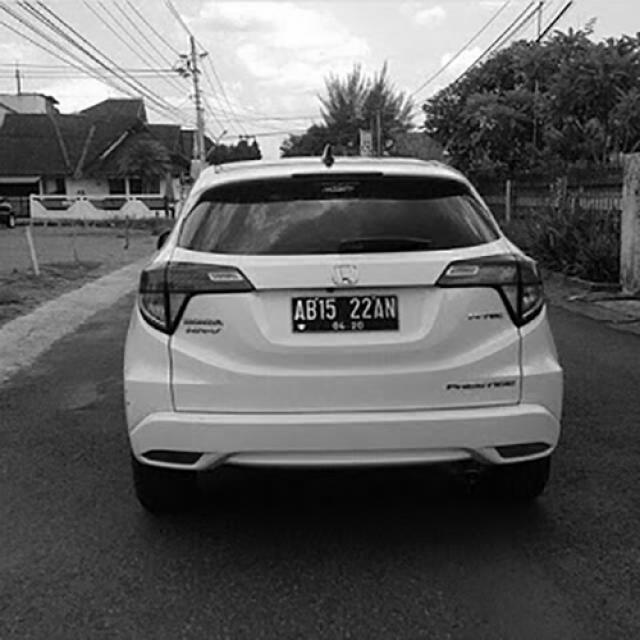1: (318, 298, 326, 322)
2: (360, 296, 372, 321), (350, 298, 360, 322)
5: (326, 296, 338, 323)
A: (293, 300, 305, 322), (373, 296, 383, 322)
B: (306, 300, 318, 320)
N: (384, 296, 396, 322)
